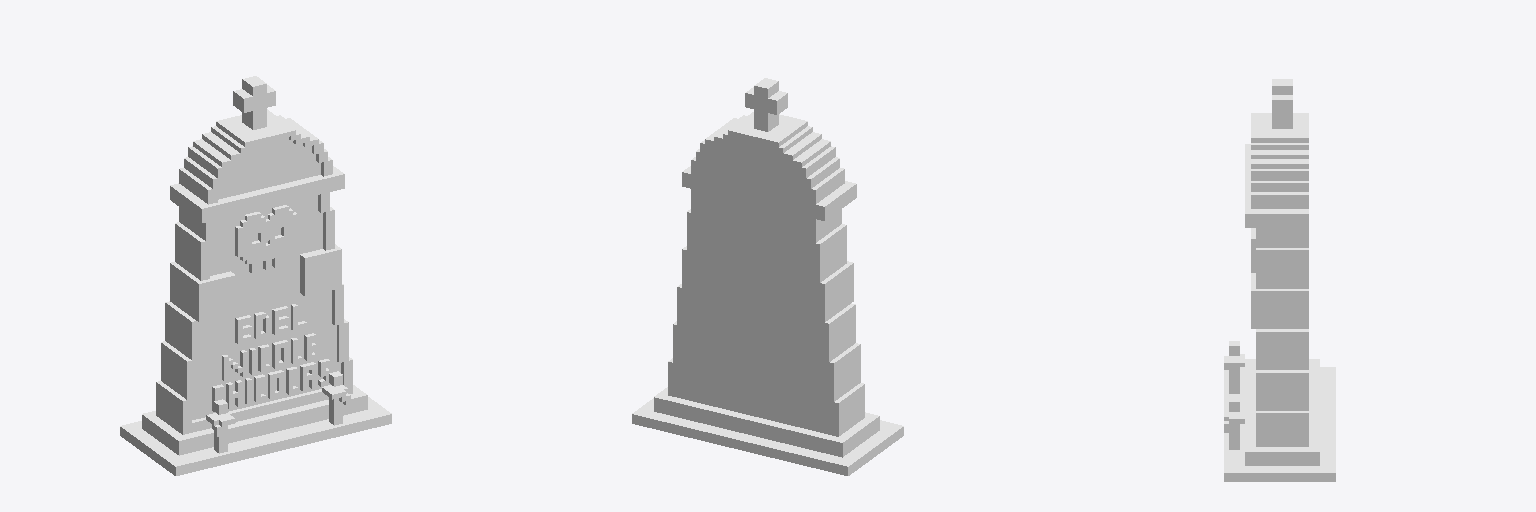
Rendered from tumbaChicocas.obj.
3 renders of one model, left to right at view 1: azimuth 30°, elevation 25°; view 2: azimuth 150°, elevation 25°; view 3: azimuth 270°, elevation 25°, orthographic.
Parts seen in each view (by area): view 1: object 1; view 2: object 1; view 3: object 1.
Part boxes in pixels (left/top/right/bottom): object 1: left=120, top=76, right=391, bottom=475; object 1: left=632, top=78, right=903, bottom=475; object 1: left=1224, top=79, right=1335, bottom=481.
Bounding box in the file's own units: 4.7 × 7.2 × 2.1.